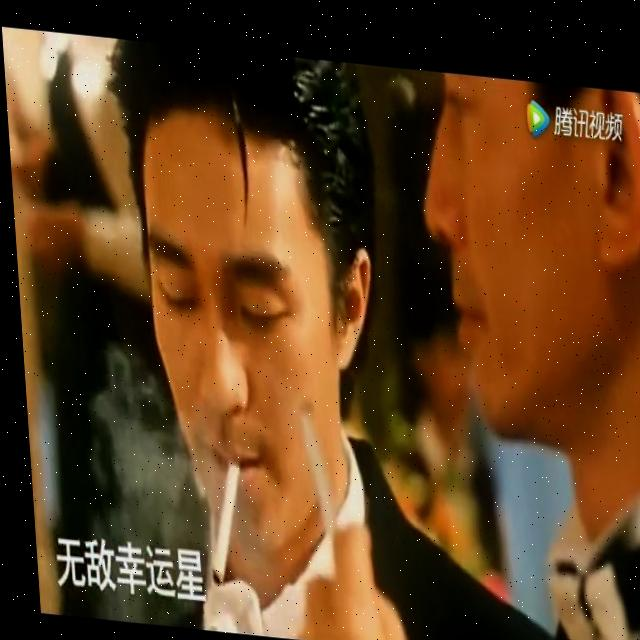cigarette: (189, 452, 241, 583), (293, 396, 333, 540)
